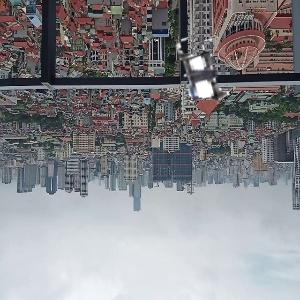drone: (163, 33, 251, 121)
